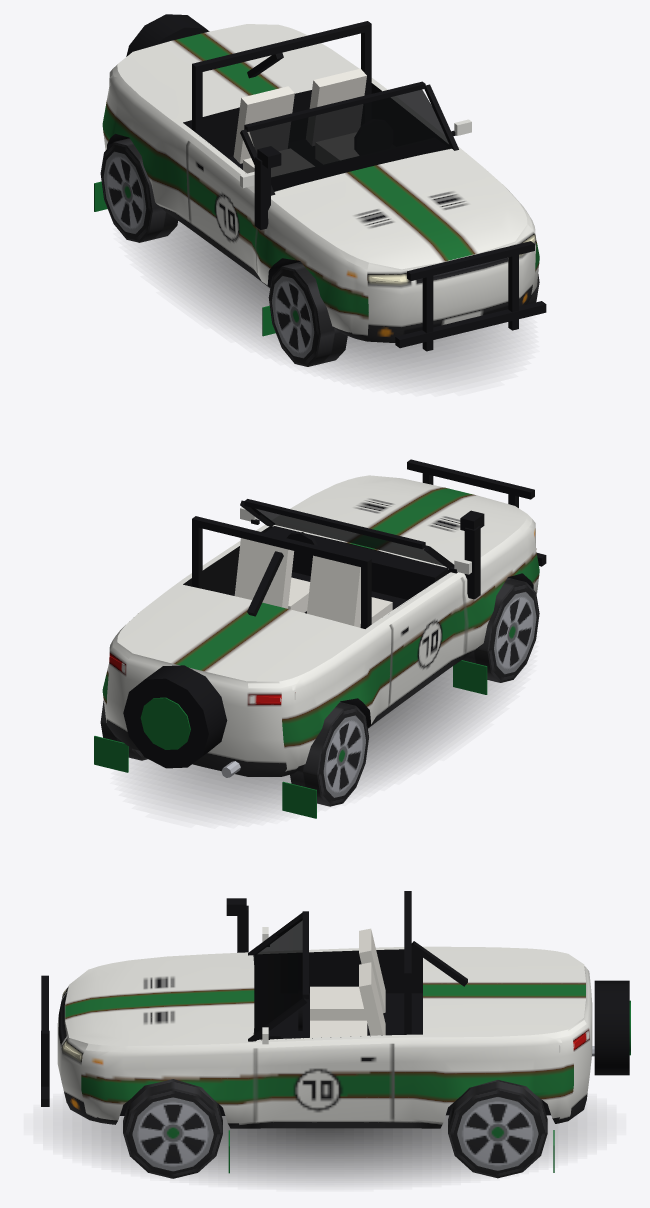
Rendered from atoleiro.glb.
3 renders of one model, top to bottom at view 1: azimuth 30°, elevation 25°; view 2: azimuth 150°, elevation 25°; view 3: azimuth 270°, elevation 25°, orthographic. The views are drawn at different scales.
Parts seen in each view (by area): view 1: Carroceria, Capo_malha, Sombra, Tampa_malha, Porta_D_malha, Roda_DD, Roda_TD, Porta_E_malha; view 2: Carroceria, Tampa_malha, Sombra, Capo_malha, Porta_D_malha, Roda_TD, Roda_DD, Porta_E_malha; view 3: Carroceria, Sombra, Capo_malha, Tampa_malha, Porta_E_malha, Roda_DE, Roda_TE, Porta_D_malha.
Part boxes in pixels (<box>): Carroceria: <box>94,14,546,351</box>; Capo_malha: <box>278,154,532,269</box>; Sombra: <box>142,221,514,382</box>; Tampa_malha: <box>112,24,353,119</box>; Porta_D_malha: <box>187,141,257,273</box>; Roda_DD: <box>268,261,347,366</box>; Roda_TD: <box>100,138,177,242</box>; Porta_E_malha: <box>381,90,471,148</box>; Carroceria: <box>94,459,546,818</box>; Tampa_malha: <box>112,551,361,688</box>; Sombra: <box>135,666,505,814</box>; Capo_malha: <box>279,475,532,563</box>; Porta_D_malha: <box>389,558,471,705</box>; Roda_TD: <box>290,702,368,806</box>; Roda_DD: <box>462,577,539,682</box>; Porta_E_malha: <box>202,507,269,595</box>; Carroceria: <box>41,891,630,1173</box>; Sombra: <box>62,1111,587,1182</box>; Capo_malha: <box>70,955,240,1051</box>; Tampa_malha: <box>411,941,586,1038</box>; Porta_E_malha: <box>255,1027,392,1122</box>; Roda_DE: <box>123,1079,222,1178</box>; Roda_TE: <box>448,1080,547,1178</box>; Porta_D_malha: <box>262,927,392,993</box>.
Bounding box in the file's own units: 2.64 × 1.73 × 4.98.
13 materials, 5 textured.
